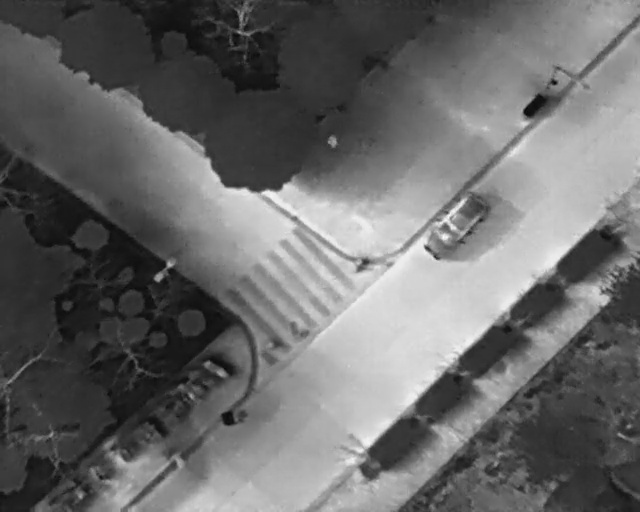Bicycle: (200, 353, 236, 386)
Car: (417, 185, 499, 265)
DontCare: (63, 368, 217, 511)
Person: (326, 132, 338, 151)
